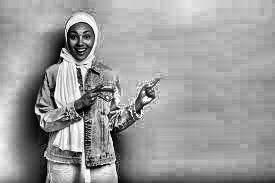happy: (63, 21, 99, 69)
